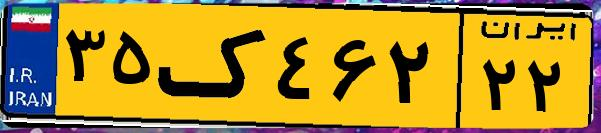2: (385, 28, 445, 110), (475, 38, 525, 113), (525, 38, 570, 115)
3: (57, 26, 110, 100)
4: (270, 28, 330, 110)
5: (110, 28, 158, 98)
6: (330, 28, 385, 110)
ک: (158, 12, 270, 120)
